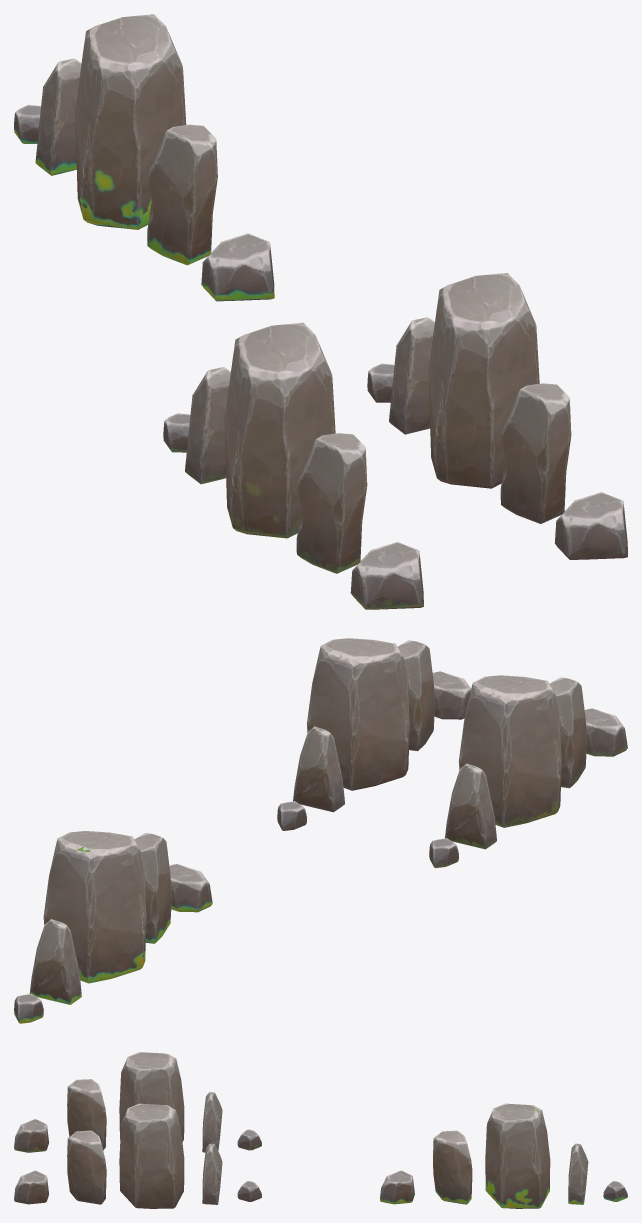
The model's file is NAT_StonesMini.glb.
The picture shows the model from 3 angles, top to bottom: view 1: azimuth 30°, elevation 25°; view 2: azimuth 150°, elevation 25°; view 3: azimuth 270°, elevation 25°; orthographic projection. The views are drawn at different scales.
Parts seen in each view (by area): view 1: Stone_5_Low, Stone_5_Low.002, Stone_5_Low.001, Stone_4_Low, Stone_4_Low.002, Stone_4_Low.001, Stone_2_Low, Stone_2_Low.001, Stone_2_Low.002, Stone_3_Low, Stone_3_Low.001, Stone_3_Low.002 (+3 smaller); view 2: Stone_5_Low.002, Stone_5_Low.001, Stone_5_Low, Stone_3_Low, Stone_3_Low.002, Stone_3_Low.001, Stone_4_Low.001, Stone_4_Low, Stone_4_Low.002, Stone_2_Low.002, Stone_2_Low, Stone_2_Low.001 (+3 smaller); view 3: Stone_5_Low.001, Stone_5_Low, Stone_5_Low.002, Stone_4_Low.001, Stone_4_Low, Stone_4_Low.002, Stone_3_Low, Stone_3_Low.001, Stone_2_Low.001, Stone_2_Low.002, Stone_2_Low, Stone_3_Low.002 (+3 smaller).
Part boxes in pixels (box(x1,y1,x2,y2)): Stone_5_Low: box(75, 14, 186, 229); Stone_5_Low.002: box(224, 322, 335, 538); Stone_5_Low.001: box(428, 273, 539, 488); Stone_4_Low: box(147, 124, 217, 265); Stone_4_Low.002: box(296, 433, 367, 573); Stone_4_Low.001: box(500, 383, 571, 523); Stone_2_Low: box(201, 233, 274, 301); Stone_2_Low.001: box(555, 492, 627, 559); Stone_2_Low.002: box(350, 542, 423, 609); Stone_3_Low: box(35, 58, 81, 175); Stone_3_Low.001: box(389, 317, 434, 434); Stone_3_Low.002: box(185, 367, 230, 484); Stone_5_Low.002: box(458, 675, 561, 827); Stone_5_Low.001: box(307, 638, 409, 790); Stone_5_Low: box(43, 831, 146, 983); Stone_3_Low: box(29, 919, 81, 1004); Stone_3_Low.002: box(445, 763, 496, 849); Stone_3_Low.001: box(293, 726, 344, 812); Stone_4_Low.001: box(398, 640, 435, 751); Stone_4_Low: box(134, 833, 171, 943); Stone_4_Low.002: box(549, 677, 587, 788); Stone_2_Low.002: box(584, 708, 627, 756); Stone_2_Low: box(169, 864, 212, 912); Stone_2_Low.001: box(432, 671, 471, 719); Stone_5_Low.001: box(119, 1103, 184, 1208); Stone_5_Low: box(485, 1103, 550, 1208); Stone_5_Low.002: box(119, 1052, 184, 1141); Stone_4_Low.001: box(67, 1130, 106, 1204); Stone_4_Low: box(433, 1130, 472, 1204); Stone_4_Low.002: box(67, 1079, 106, 1150); Stone_3_Low: box(568, 1143, 588, 1204); Stone_3_Low.001: box(202, 1143, 222, 1204); Stone_2_Low.001: box(14, 1170, 48, 1204); Stone_2_Low.002: box(14, 1119, 48, 1152); Stone_2_Low: box(380, 1170, 414, 1204); Stone_3_Low.002: box(202, 1092, 222, 1152).
Size of the model in its own units: 304 by 166 by 1007.
3 materials, 3 textured.
